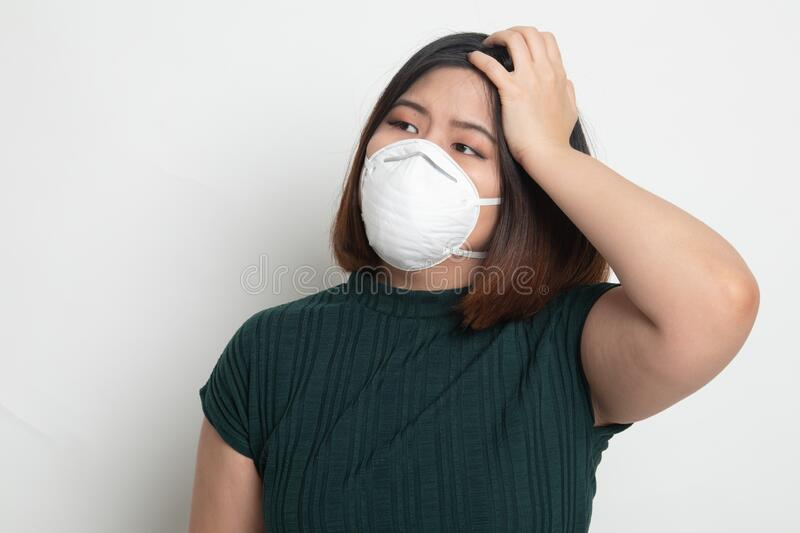n95: (344, 132, 491, 272)
